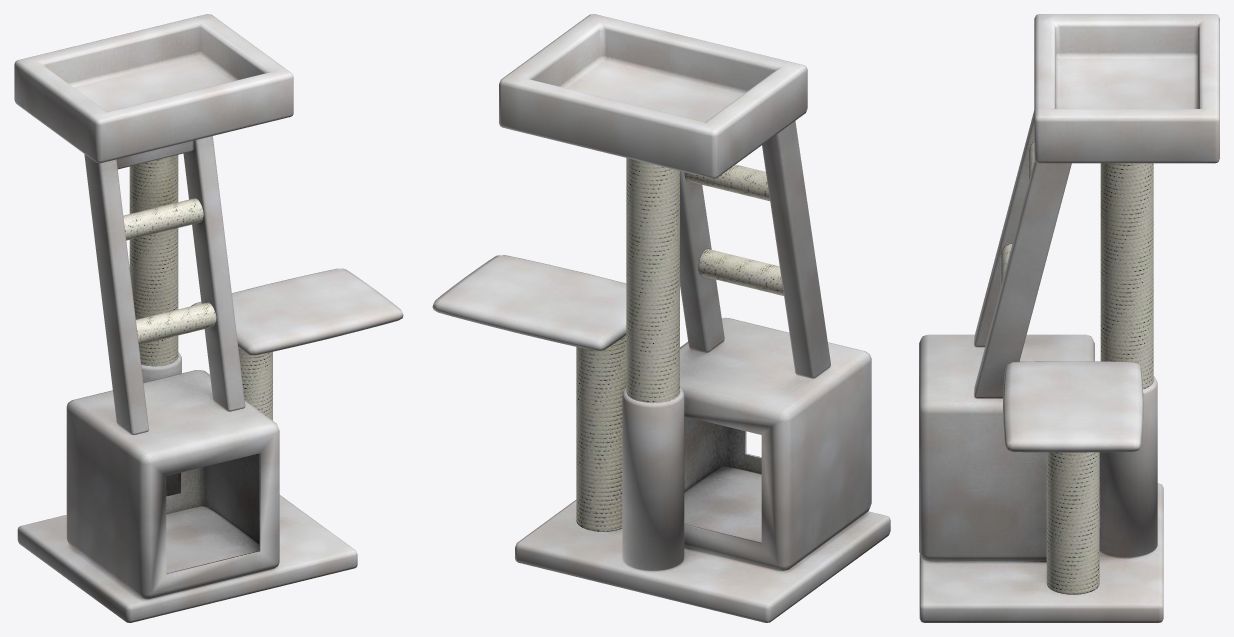
File: arbreAChat.obj
3 views of the same model, side by side, from view 1: azimuth 30°, elevation 25°; view 2: azimuth 150°, elevation 25°; view 3: azimuth 270°, elevation 25° (orthographic). The views are drawn at different scales.
Visible parts, largest first — view 1: Refuge_Cube.009, Boite_Cube.014, Echelle_Cube.010, Base_Cube.008, PlateForme_Cube.003, CordesColonne_Cylinder.005, CordesEchelle_Cylinder.006, Colonne_Cube.011; view 2: Refuge_Cube.009, Boite_Cube.014, CordesColonne_Cylinder.005, Base_Cube.008, Echelle_Cube.010, PlateForme_Cube.003, Colonne_Cube.011, CordesEchelle_Cylinder.006; view 3: Boite_Cube.014, Refuge_Cube.009, CordesColonne_Cylinder.005, Base_Cube.008, PlateForme_Cube.003, Echelle_Cube.010, Colonne_Cube.011, CordesEchelle_Cylinder.006.
Boxes of the visible parts, x1,y1,x2,y2 form: Refuge_Cube.009: [66, 370, 279, 598]; Boite_Cube.014: [14, 14, 293, 163]; Echelle_Cube.010: [84, 136, 245, 434]; Base_Cube.008: [17, 495, 357, 622]; PlateForme_Cube.003: [191, 268, 403, 355]; CordesColonne_Cylinder.005: [129, 155, 272, 420]; CordesEchelle_Cylinder.006: [123, 198, 216, 344]; Colonne_Cube.011: [141, 352, 181, 495]; Refuge_Cube.009: [680, 317, 871, 570]; Boite_Cube.014: [499, 14, 807, 178]; CordesColonne_Cylinder.005: [576, 158, 679, 531]; Base_Cube.008: [515, 500, 890, 622]; Echelle_Cube.010: [680, 121, 830, 378]; PlateForme_Cube.003: [432, 255, 626, 350]; Colonne_Cube.011: [622, 387, 684, 570]; CordesEchelle_Cylinder.006: [684, 164, 783, 295]; Boite_Cube.014: [1034, 14, 1219, 163]; Refuge_Cube.009: [919, 334, 1094, 560]; CordesColonne_Cylinder.005: [1046, 163, 1153, 594]; Base_Cube.008: [919, 483, 1163, 622]; PlateForme_Cube.003: [1003, 361, 1143, 452]; Echelle_Cube.010: [974, 110, 1071, 398]; Colonne_Cube.011: [1099, 376, 1157, 557]; CordesEchelle_Cylinder.006: [1000, 142, 1034, 287].
Size of the model in its own units: 65 by 89.64 by 48.76.
Materials: 8 (8 with a texture image).
